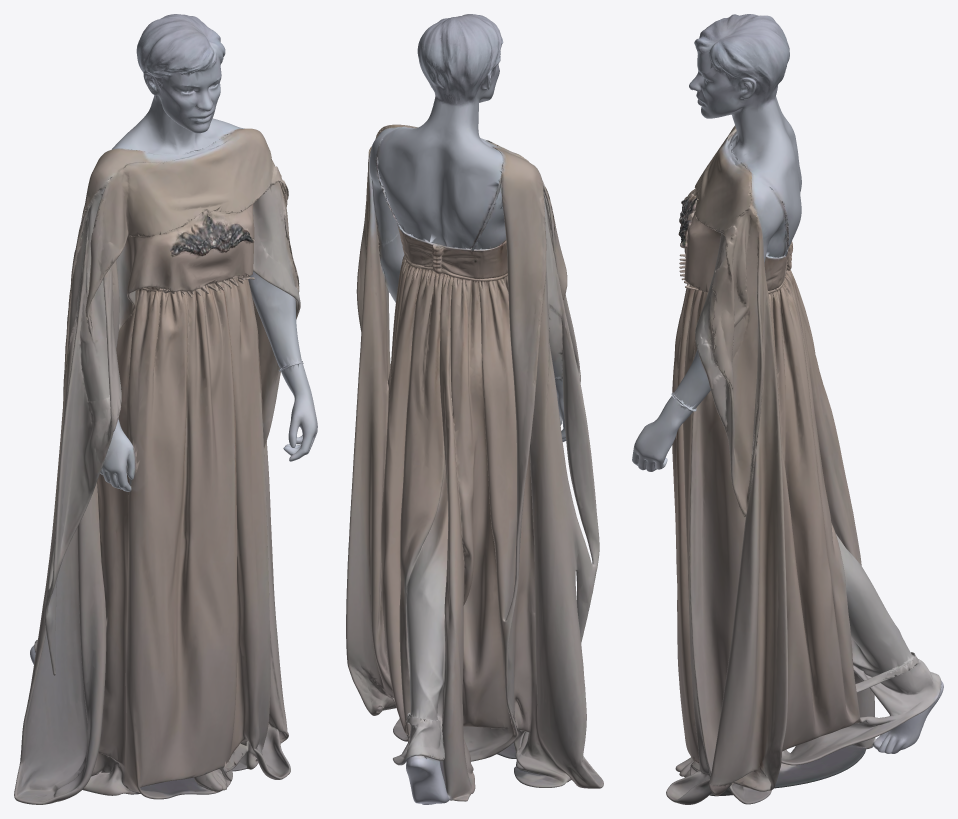
3 views of the same model, side by side, from view 1: azimuth 30°, elevation 25°; view 2: azimuth 150°, elevation 25°; view 3: azimuth 270°, elevation 25° (orthographic). The views are drawn at different scales.
Visible parts, largest first — view 1: tripo_node_9bd4ae52-0de3-4f20-91dc-111d04026fb0; view 2: tripo_node_9bd4ae52-0de3-4f20-91dc-111d04026fb0; view 3: tripo_node_9bd4ae52-0de3-4f20-91dc-111d04026fb0.
Part boxes in pixels (box(x1,y1,x2,y2)): tripo_node_9bd4ae52-0de3-4f20-91dc-111d04026fb0: box(14, 14, 317, 804); tripo_node_9bd4ae52-0de3-4f20-91dc-111d04026fb0: box(346, 14, 603, 804); tripo_node_9bd4ae52-0de3-4f20-91dc-111d04026fb0: box(632, 14, 943, 804).
Size of the model in its own units: 0.3543 by 0.9793 by 0.3672.
Materials: 1 (1 with a texture image).
